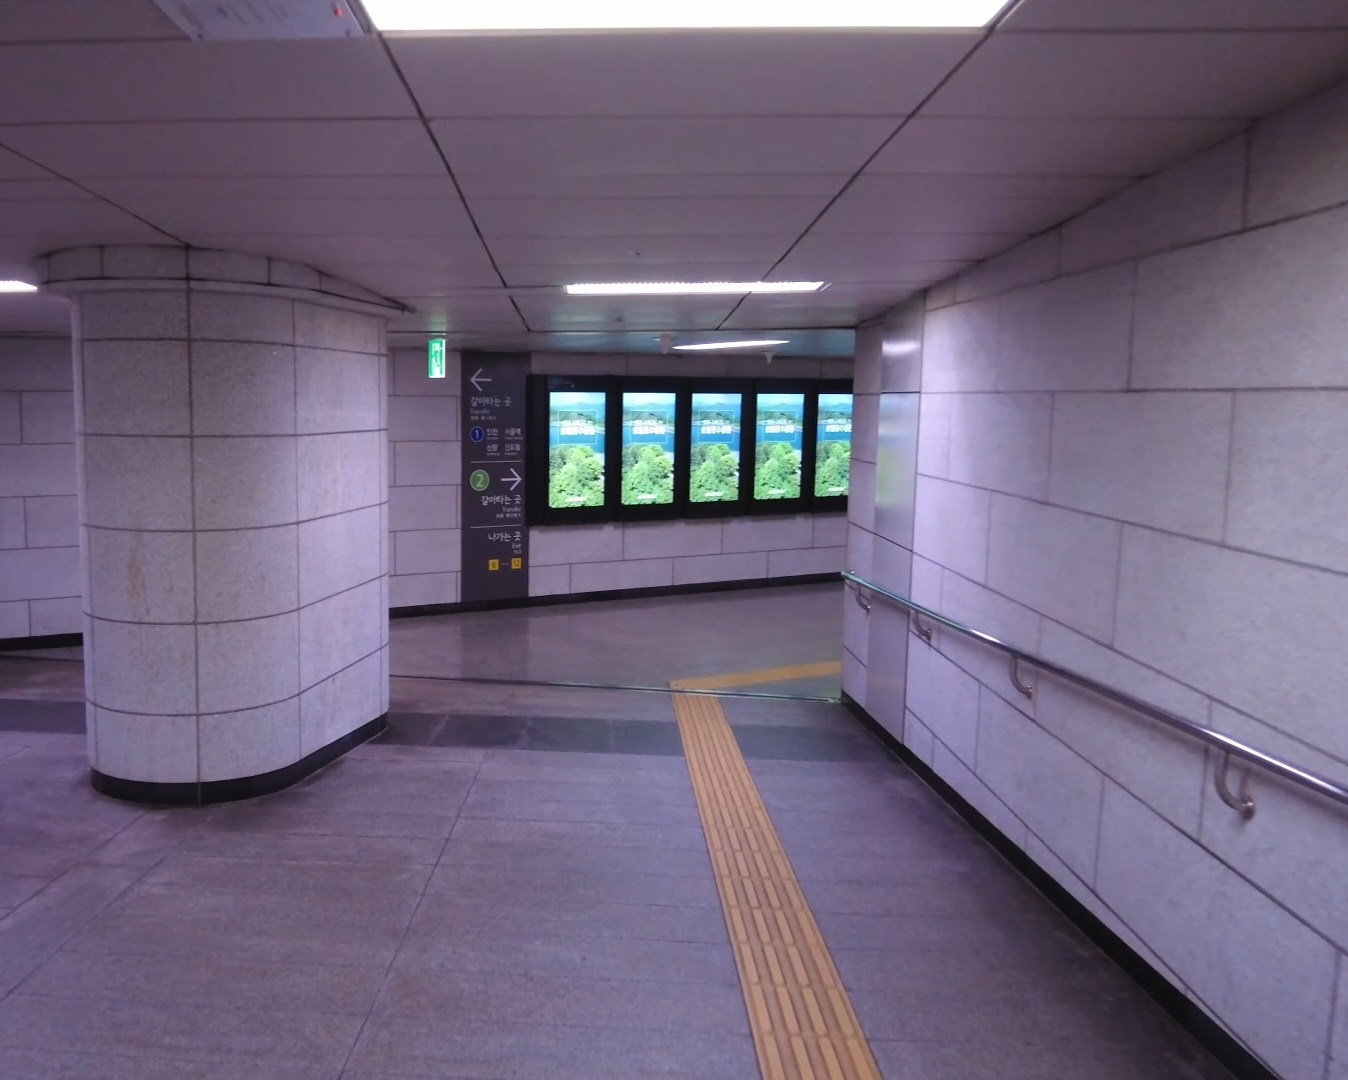guideBlock: (733, 940, 846, 1003), (748, 980, 854, 1043), (756, 1035, 888, 1080), (716, 829, 808, 888), (734, 905, 829, 955), (711, 842, 798, 895), (725, 874, 804, 927)
